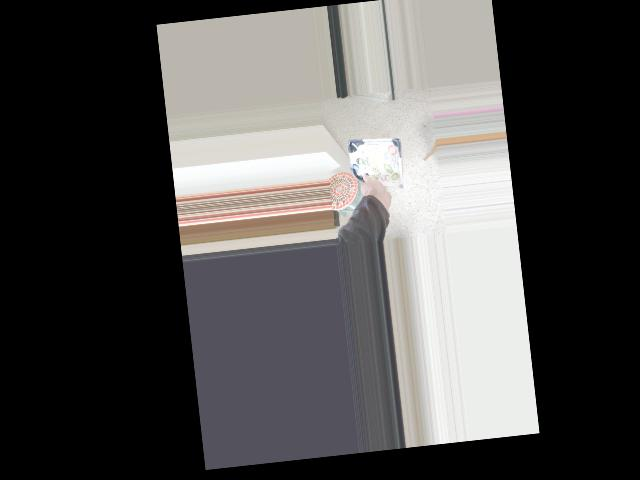cheese: (341, 136, 414, 210)
